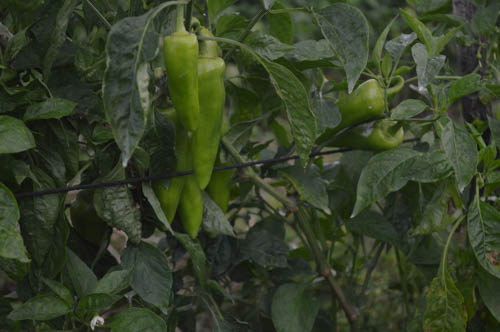ChiliPepper: (192, 57, 229, 186), (153, 108, 190, 219), (161, 37, 194, 126), (333, 81, 386, 126), (324, 120, 400, 151), (176, 178, 202, 234)
